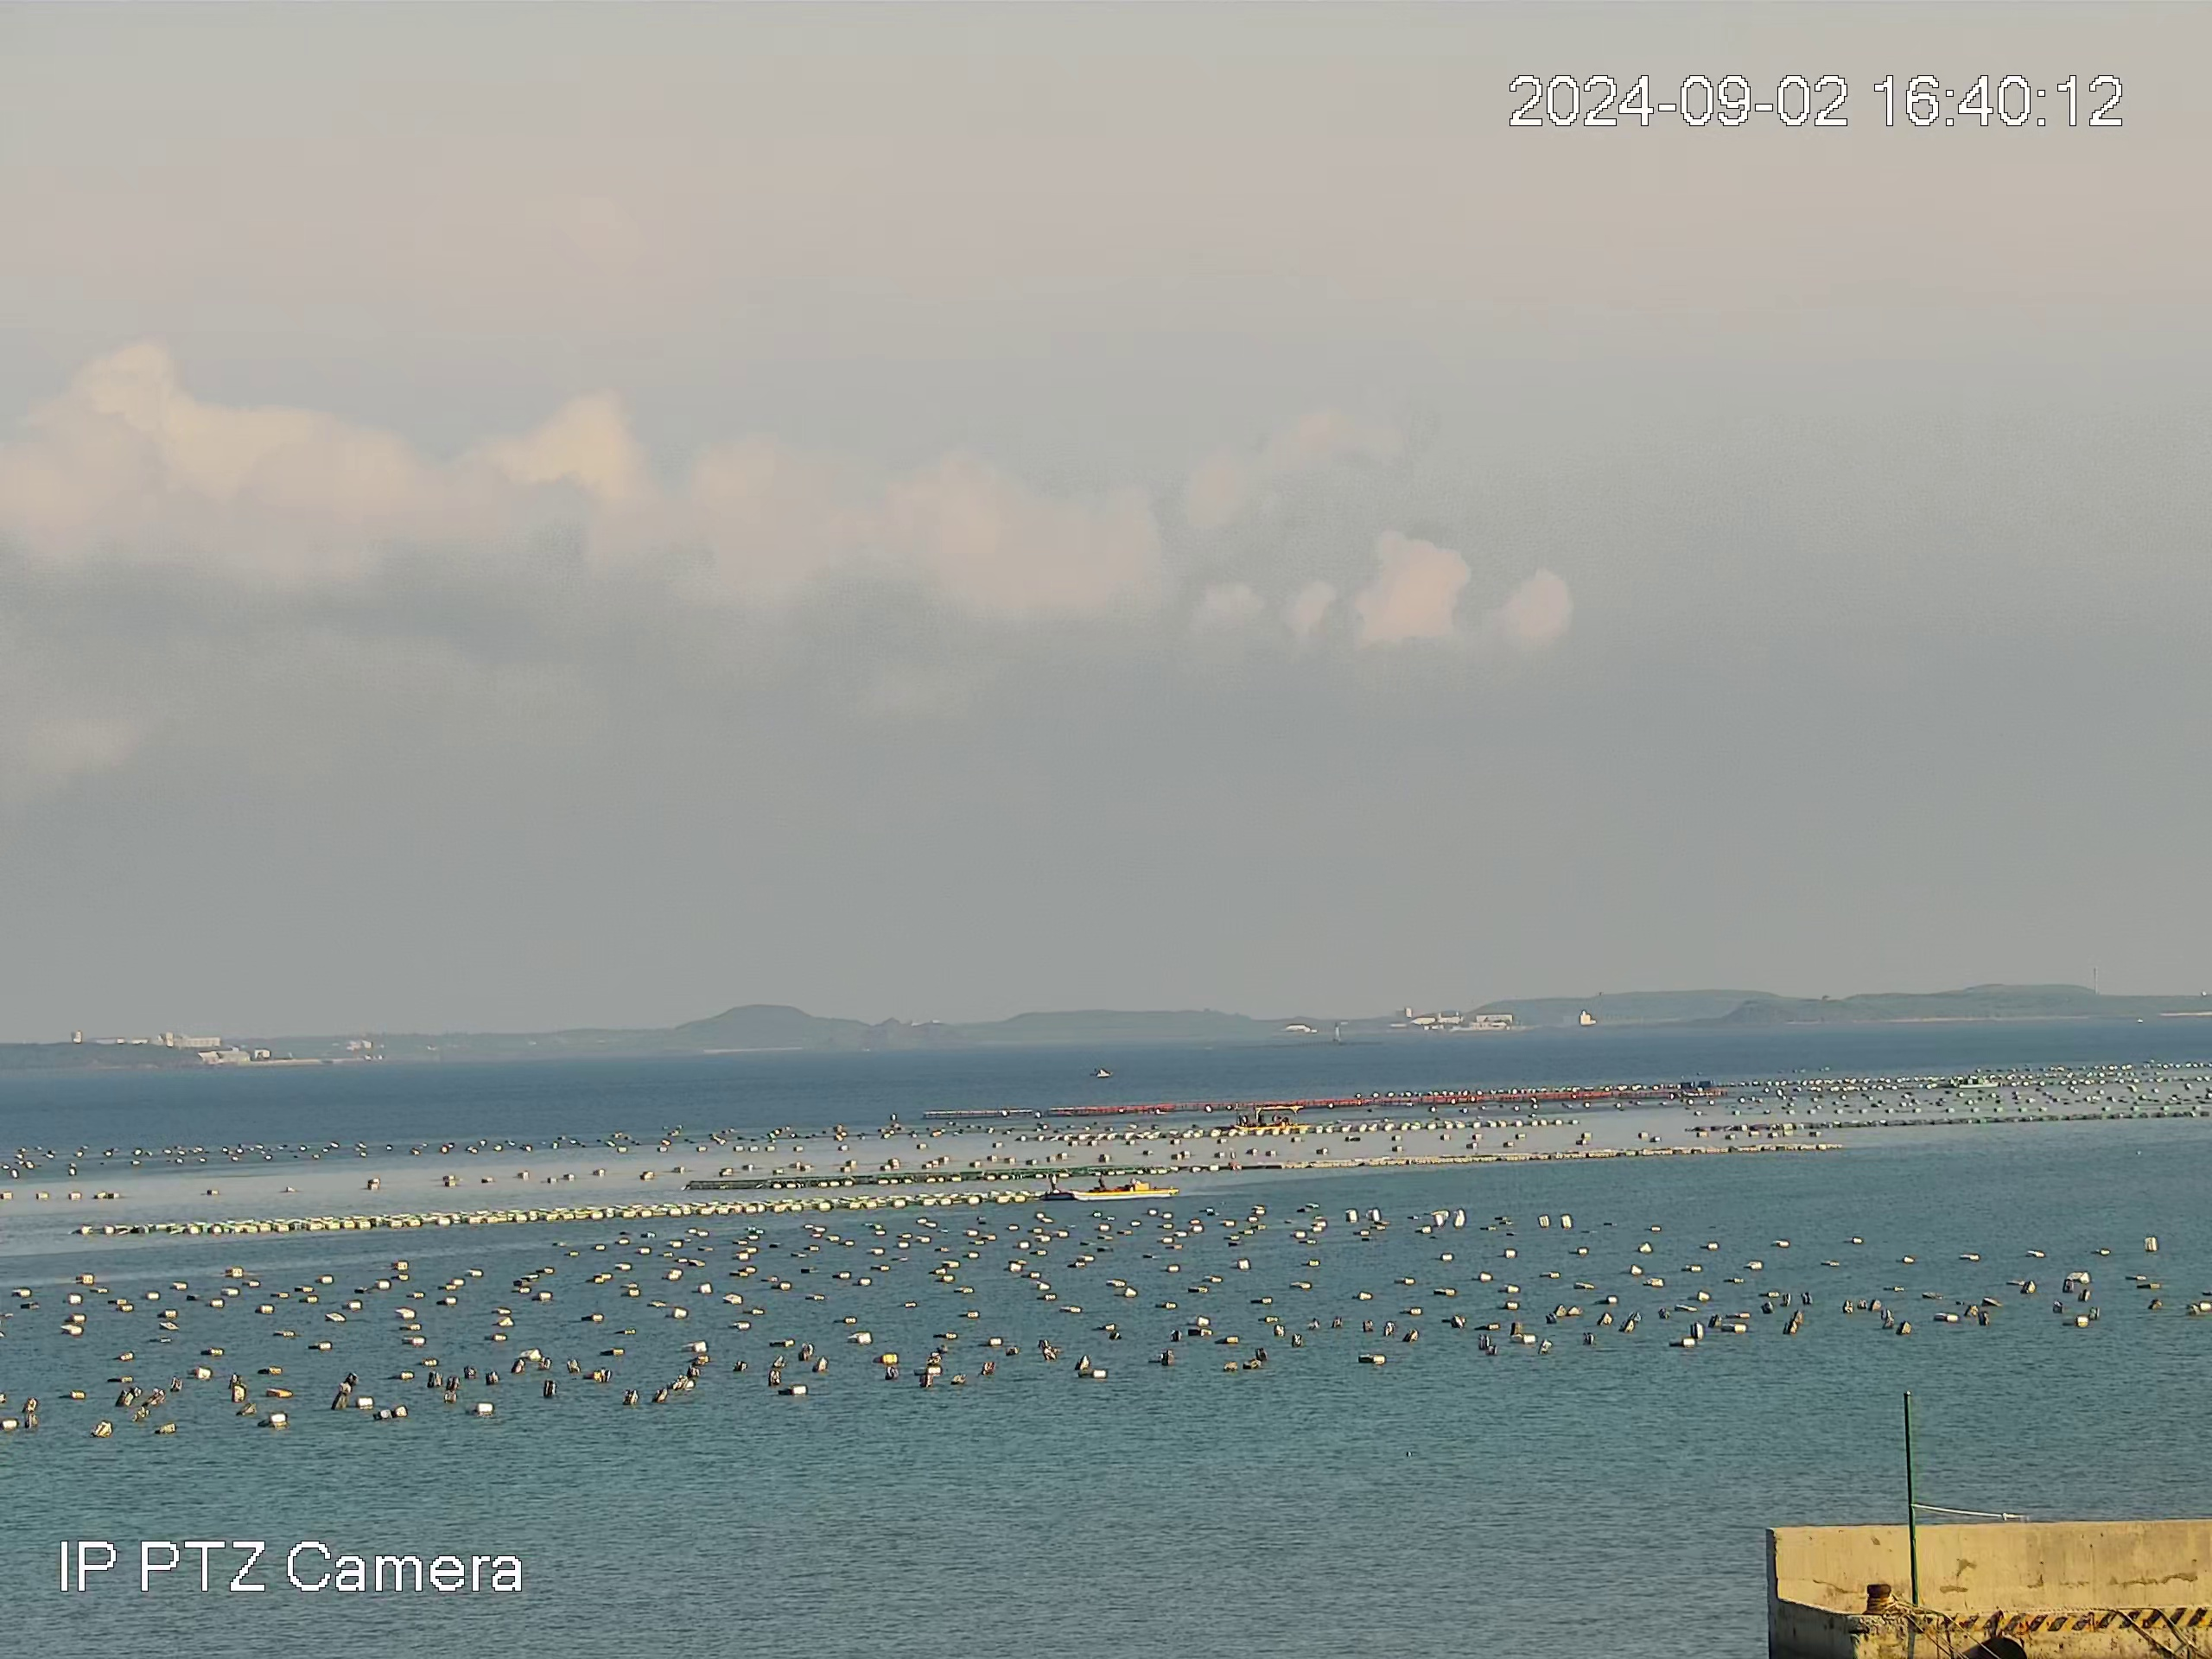boat: (1038, 1171, 1179, 1202), (1230, 1101, 1308, 1131), (1958, 1072, 2000, 1089)
